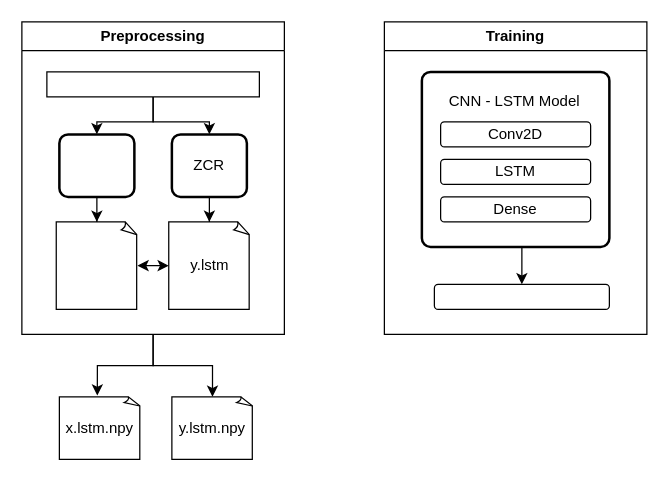
This 669x481 diagram has some shape labels left out. The shapes that lost their labels are listed below. From the top down, each one's centre as x and y in pixels, then its label:
point (152, 84): Audio Files
point (96, 165): MFCC
point (96, 265): WWX
point (521, 296): cnn_lstm_model.h5
